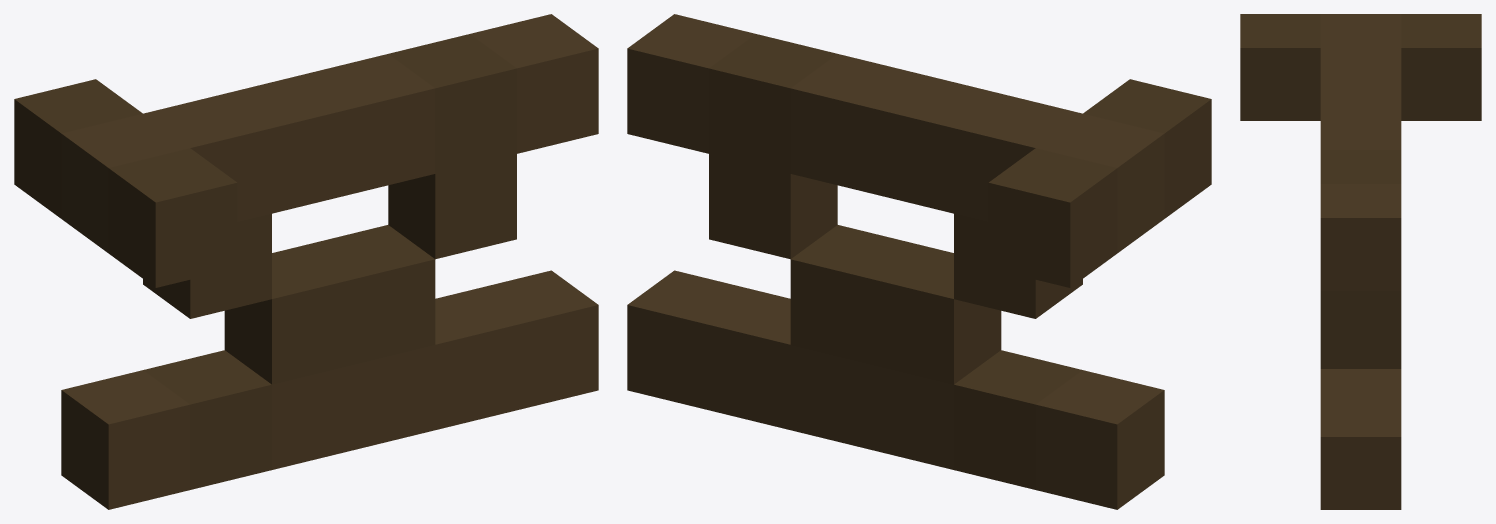
Rendered from farm-12-fence_gate.obj.
The picture shows the model from 3 angles, left to right: view 1: azimuth 30°, elevation 25°; view 2: azimuth 150°, elevation 25°; view 3: azimuth 270°, elevation 25°; orthographic projection. The views are drawn at different scales.
Parts seen in each view (by area): view 1: fence_gate; view 2: fence_gate; view 3: fence_gate.
Part boxes in pixels (x1=…): fence_gate: x1=14, y1=14, x2=598, y2=509; fence_gate: x1=627, y1=14, x2=1211, y2=509; fence_gate: x1=1240, y1=14, x2=1481, y2=509.
Size of the model in its own units: 0.6 by 0.4 by 0.3.
1 material, 1 textured.
